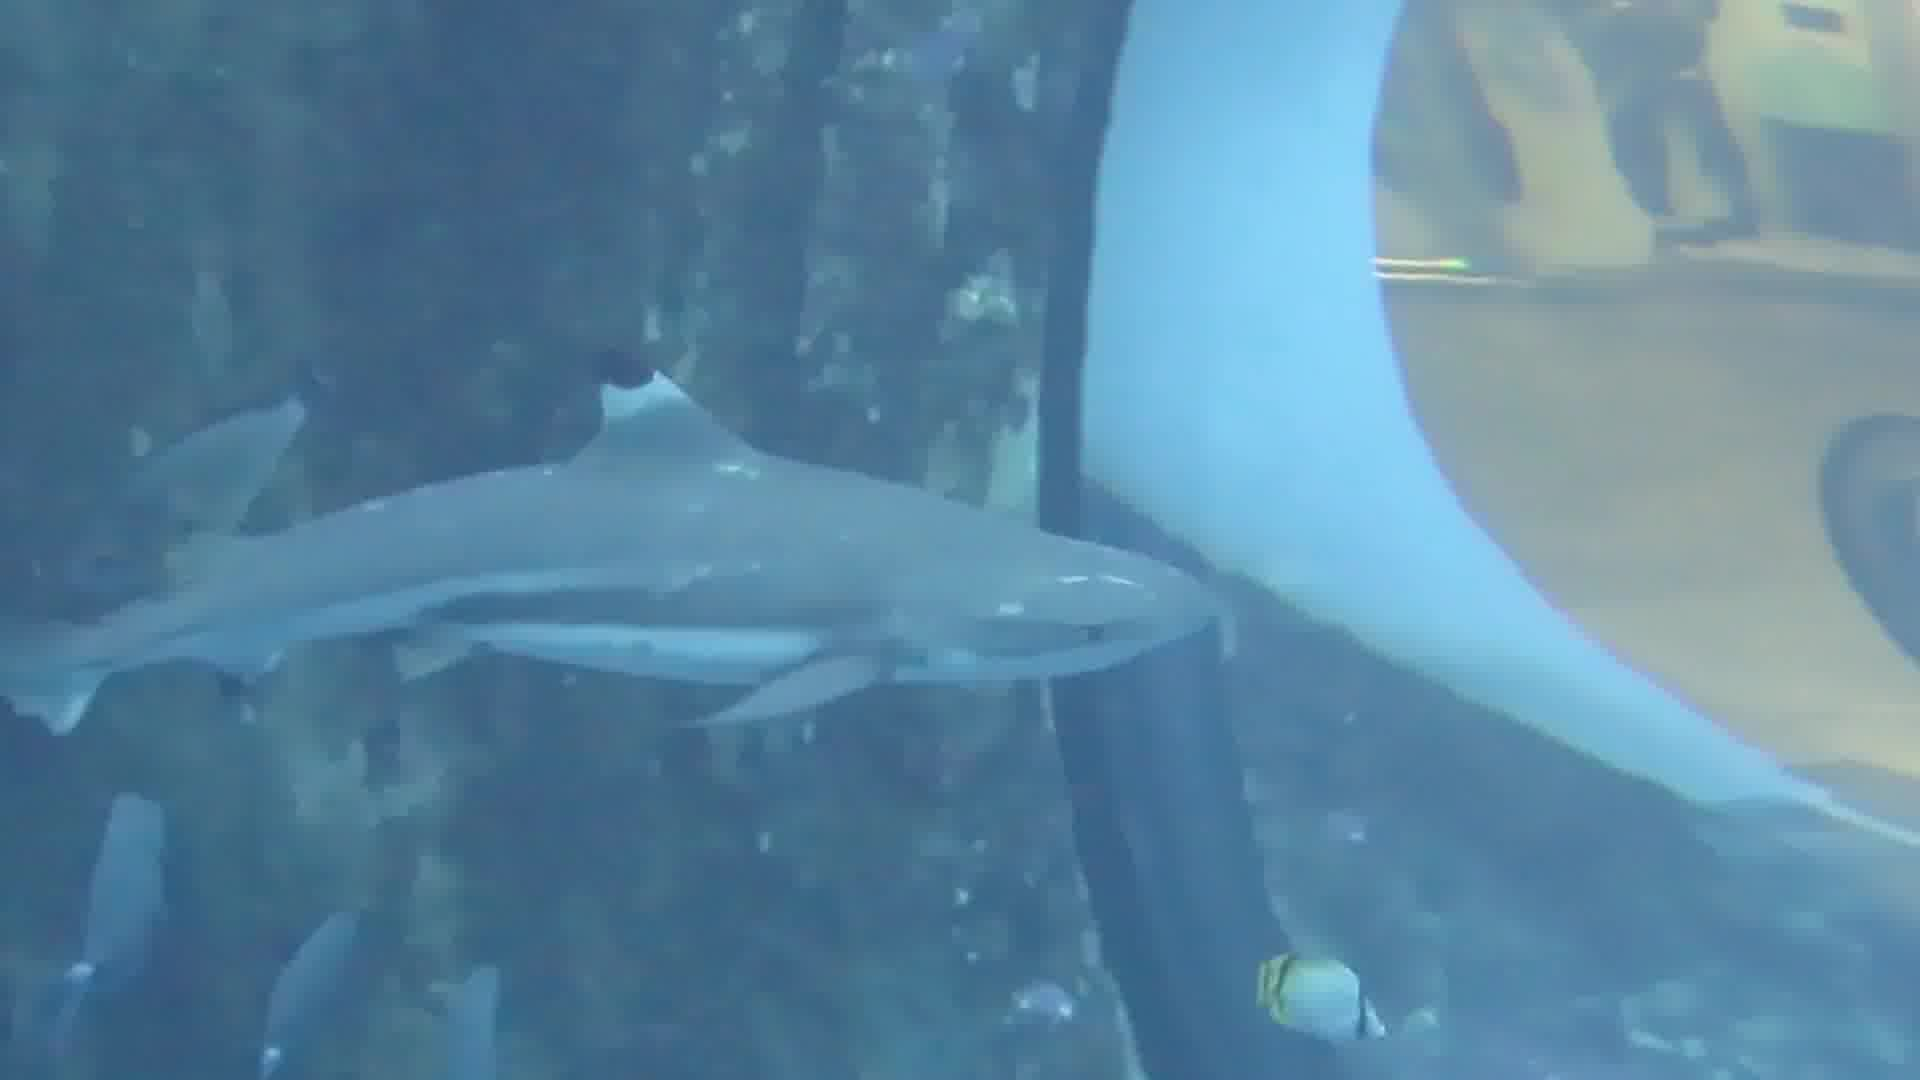Carcharhinus melanopterus: (4, 332, 1238, 781)
